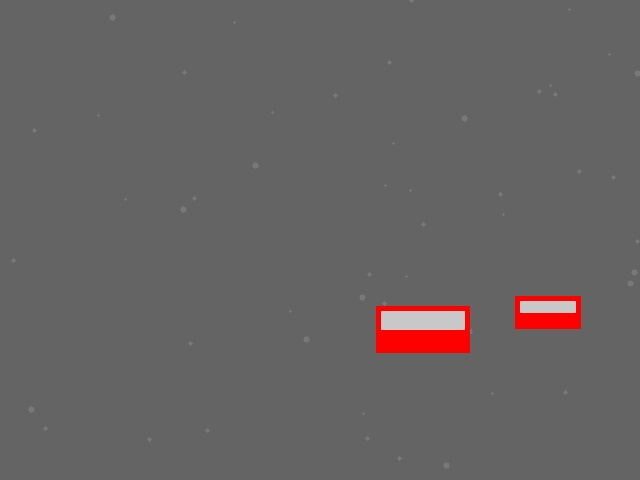car: (376, 306, 469, 352), (515, 296, 580, 328)
